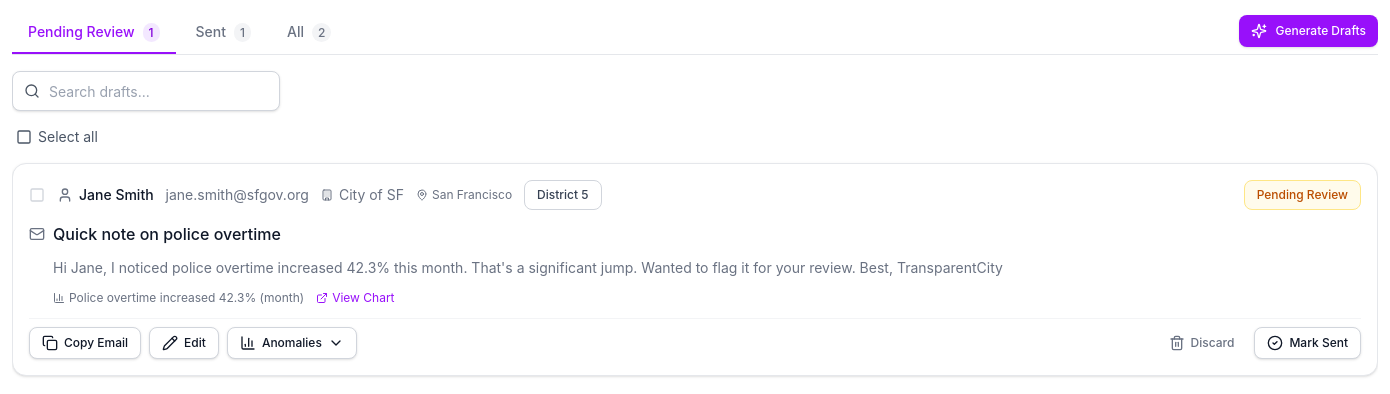
ReviewAndSend › switches to sent tab and shows sent items
Step 1. Click the button "Sent1" → (223, 33), box [180,12,267,54]
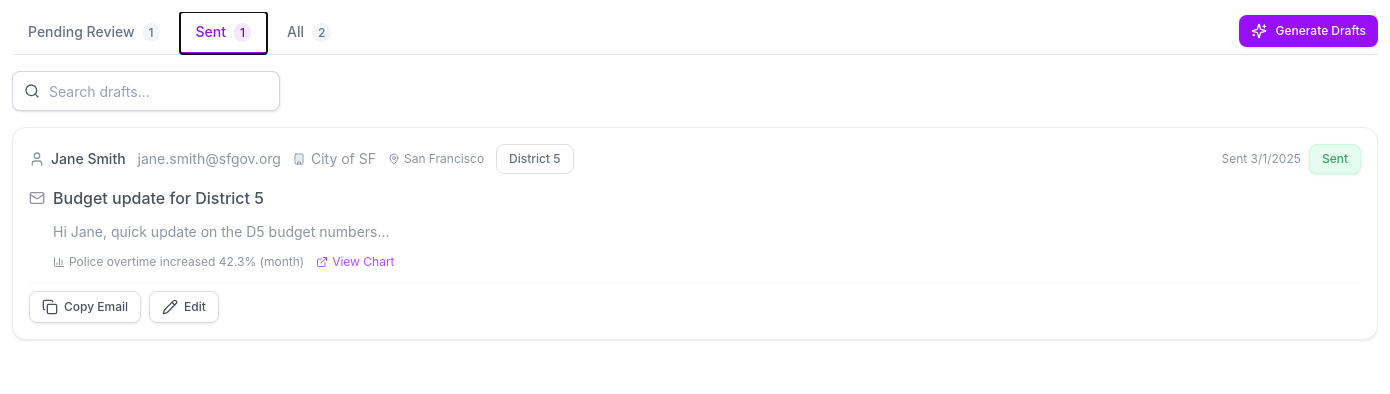
Now the text "Budget update for District 5" is shown, box [53,186,264,210]
Now the text "Quick note on police overtime" is gone
